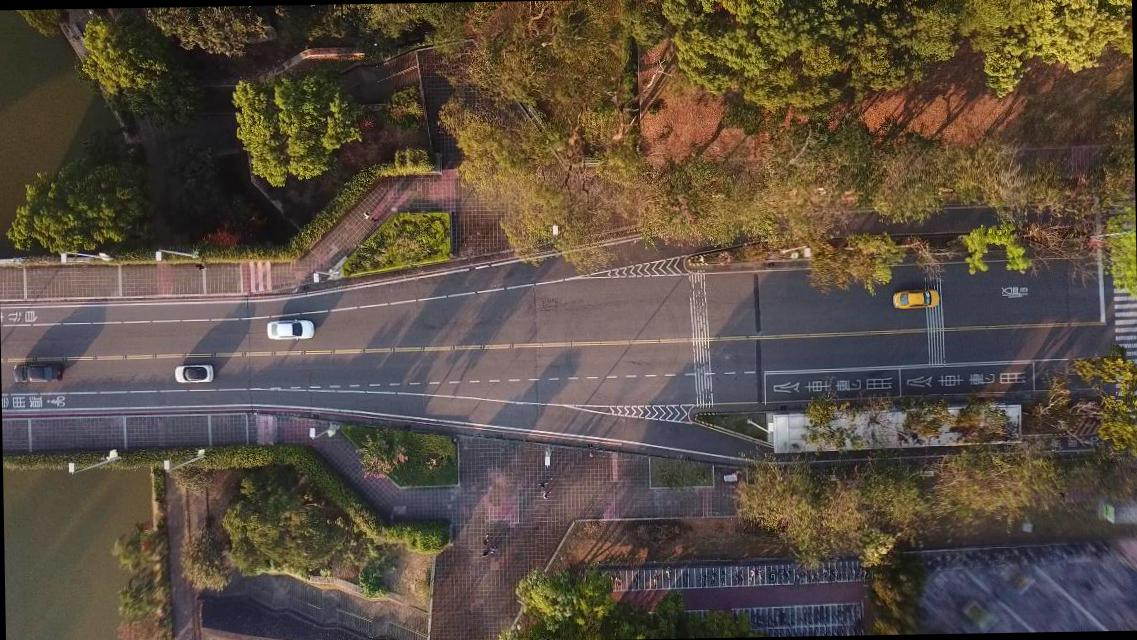vehicle: (11, 363, 63, 384), (892, 288, 940, 310), (267, 318, 314, 340), (174, 363, 213, 385)
